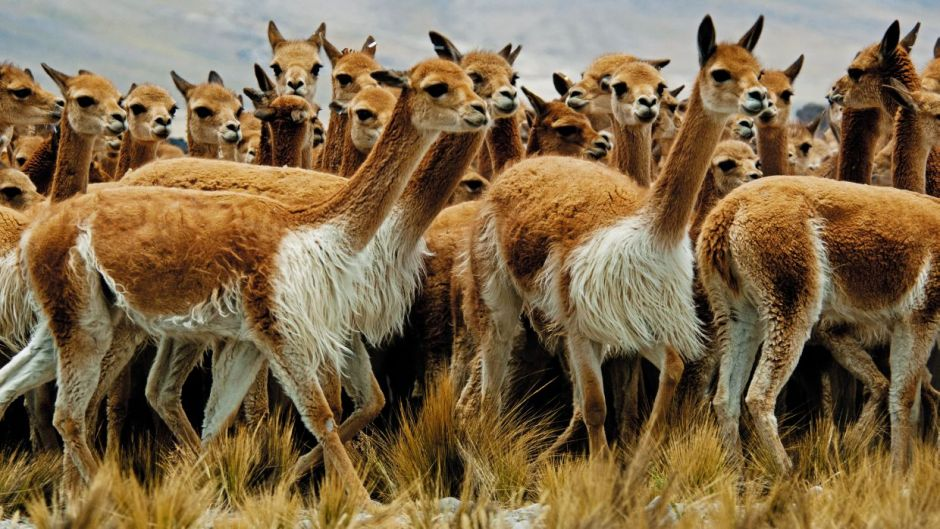eye: (68, 89, 108, 117), (119, 103, 159, 125), (462, 167, 491, 196), (711, 65, 737, 95), (548, 119, 576, 146), (707, 158, 741, 180), (10, 84, 46, 101), (356, 105, 376, 129), (270, 60, 288, 84), (431, 81, 450, 103), (197, 100, 211, 128), (618, 84, 636, 105)
mouth: (459, 106, 498, 141), (491, 86, 528, 117), (632, 98, 667, 127), (735, 97, 776, 117), (586, 136, 612, 162), (110, 110, 131, 140), (221, 121, 246, 144), (154, 122, 174, 149)
